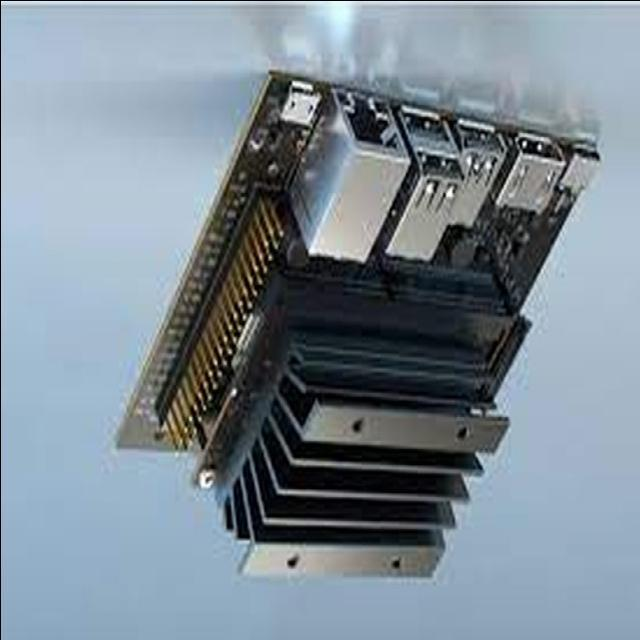Jetson Nano: (114, 73, 602, 579)
